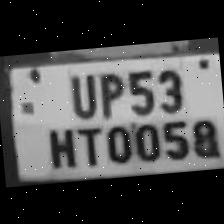0: (100, 118, 133, 163), (129, 118, 162, 162)
3: (152, 63, 186, 113)
5: (121, 62, 157, 115), (158, 115, 191, 160)
8: (188, 111, 222, 158)
H: (40, 120, 79, 168)
P: (92, 64, 126, 118)
T: (70, 120, 104, 168)
U: (61, 67, 99, 118)
